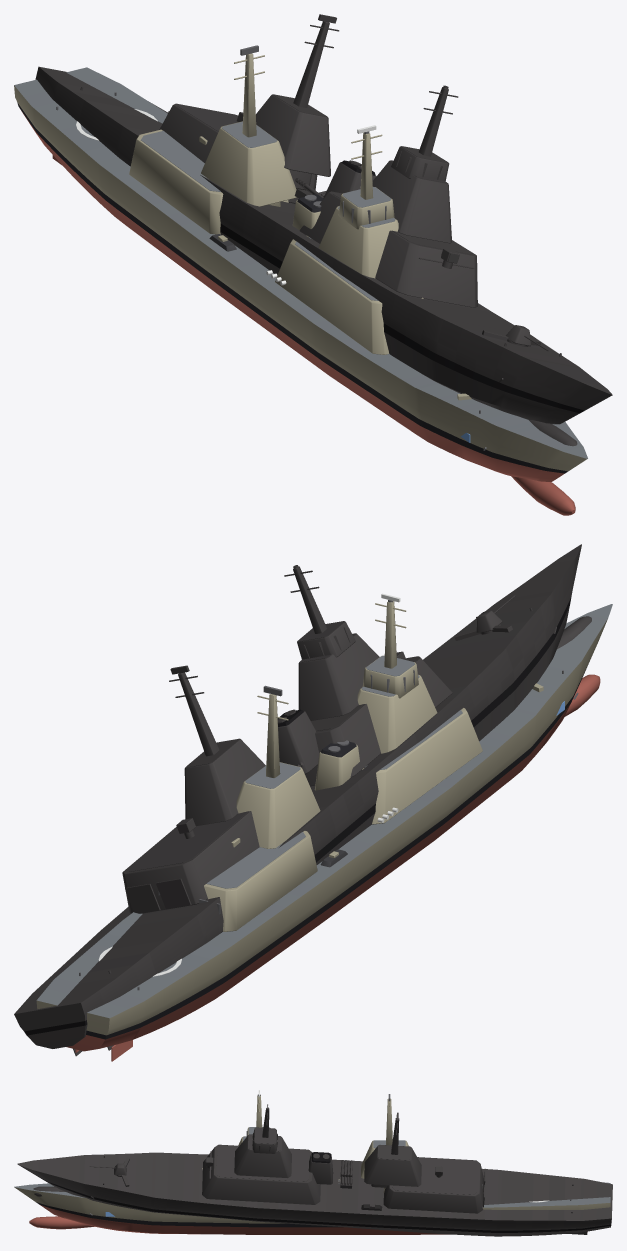
Rendered from asFrigate__f125_class.glb.
The picture shows the model from 3 angles, top to bottom: view 1: azimuth 30°, elevation 25°; view 2: azimuth 150°, elevation 25°; view 3: azimuth 270°, elevation 25°; orthographic projection. The views are drawn at different scales.
Parts seen in each view (by area): view 1: Hull_Mesh, Wreck; view 2: Hull_Mesh, Wreck; view 3: Wreck, Hull_Mesh.
Boxes of the visible parts, x1,y1,x2,y2 form: Hull_Mesh: (14, 45, 587, 515); Wreck: (35, 14, 612, 446); Hull_Mesh: (36, 601, 612, 1061); Wreck: (14, 544, 591, 1056); Wreck: (17, 1104, 612, 1236); Hull_Mesh: (14, 1094, 610, 1234).
Size of what is drawn, in the model's own units: 25.92 by 41.97 by 156.
